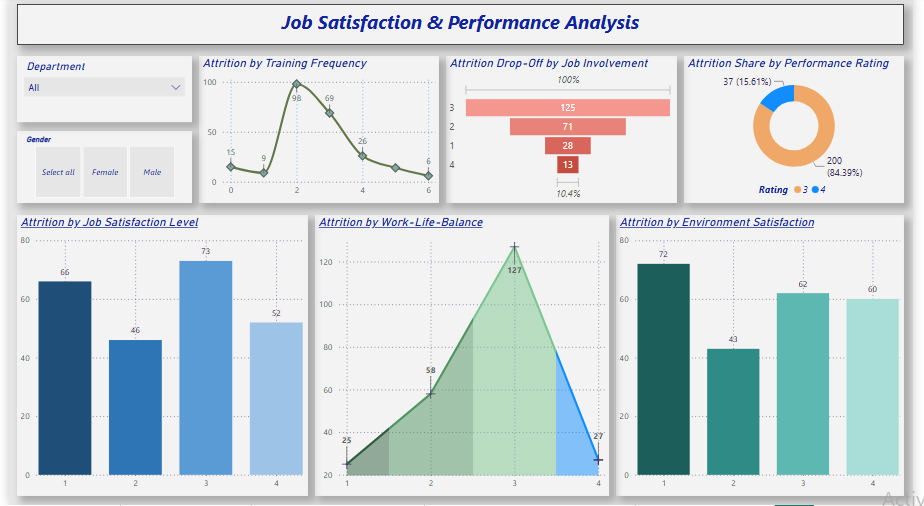

The page's visual inventory and layout, read from the dashboard file:
{"tool":"powerbi","page":{"name":"Job Satisfaction & Performance","canvas":[1280,720],"ordinal":3},"visuals":[{"type":"textbox","box":[11.3,9.9,1257.2,58.1],"z":0},{"type":"clusteredColumnChart","title":"Attrition by Job Satisfaction Level","fields":{"Y":["hr_analytics_clean.Attrition Count"],"Category":["hr_analytics_clean.jobsatisfaction"]},"box":[11.3,309,412.4,398.3],"z":1000},{"type":"clusteredColumnChart","title":"Attrition by Environment Satisfaction","fields":{"Y":["hr_analytics_clean.Attrition Count"],"Category":["hr_analytics_clean.environmentsatisfaction"]},"box":[860.3,309,408.2,398.3],"z":2000},{"type":"areaChart","title":"Attrition by Work-Life-Balance","fields":{"Category":["hr_analytics_clean.worklifebalance"],"Y":["hr_analytics_clean.Attrition Count"]},"box":[433.7,309,416.7,398.3],"z":3000},{"type":"funnel","title":"Attrition Drop-Off by  Job Involvement","fields":{"Category":["hr_analytics_clean.jobinvolvement"],"Y":["hr_analytics_clean.Attrition Count"]},"box":[619.4,83.6,327.4,208.3],"z":4000},{"type":"donutChart","title":"Attrition Share by Performance Rating","fields":{"Category":["hr_analytics_clean.performancerating"],"Y":["hr_analytics_clean.Attrition Count"]},"box":[956.7,83.6,311.8,208.3],"z":5000},{"type":"lineChart","title":"Attrition by Training Frequency","fields":{"Category":["hr_analytics_clean.trainingtimeslastyear"],"Y":["hr_analytics_clean.Attrition Count"]},"box":[269.3,83.6,340.2,208.3],"z":6000},{"type":"slicer","fields":{"Values":["hr_analytics_clean.department"]},"box":[11.3,83.6,248,93.5],"z":7000},{"type":"slicer","fields":{"Values":["hr_analytics_clean.gender"]},"box":[11.3,189.9,248,102],"z":8000}]}

Visuals, with their boxes in screenshot pixels (x1, y1, x2, y2), scaled from the page's 1280x720 canvas onto the 924x506 screenshot:
textbox: (x1=8, y1=7, x2=916, y2=48)
"Attrition by Job Satisfaction Level" clusteredColumnChart: (x1=8, y1=217, x2=306, y2=497)
"Attrition by Environment Satisfaction" clusteredColumnChart: (x1=621, y1=217, x2=916, y2=497)
"Attrition by Work-Life-Balance" areaChart: (x1=313, y1=217, x2=614, y2=497)
"Attrition Drop-Off by  Job Involvement" funnel: (x1=447, y1=59, x2=683, y2=205)
"Attrition Share by Performance Rating" donutChart: (x1=691, y1=59, x2=916, y2=205)
"Attrition by Training Frequency" lineChart: (x1=194, y1=59, x2=440, y2=205)
slicer - hr_analytics_clean.department: (x1=8, y1=59, x2=187, y2=124)
slicer - hr_analytics_clean.gender: (x1=8, y1=133, x2=187, y2=205)
